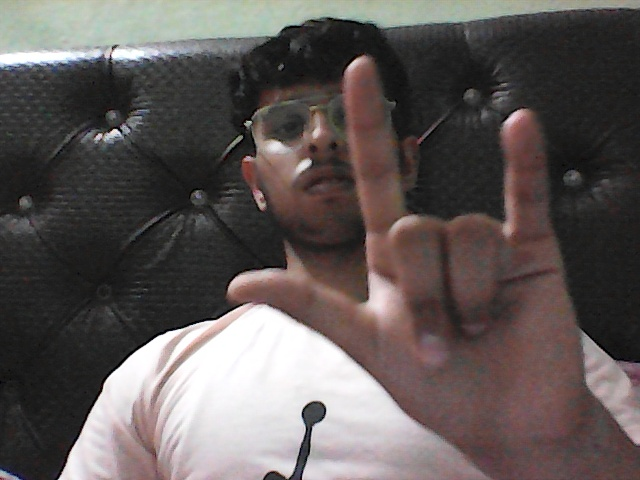iloveyou: (207, 44, 627, 473)
